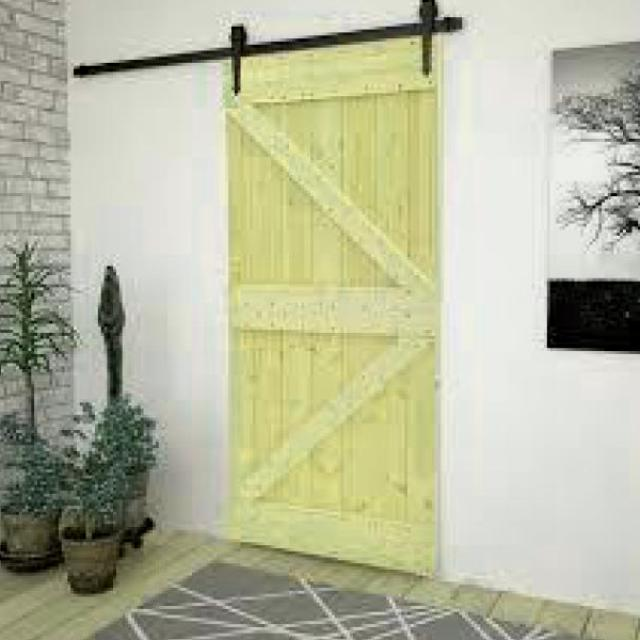door: (210, 19, 458, 584)
